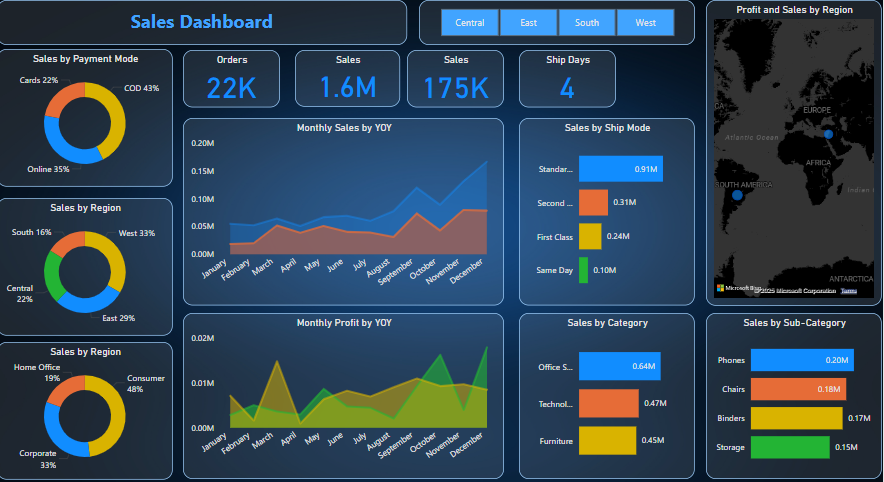

This screenshot's page, from the dashboard's own definition file:
{"tool":"powerbi","page":{"name":"Page 1","canvas":[1280,720],"ordinal":0},"visuals":[{"type":"clusteredBarChart","title":"Sales by Ship Mode","fields":{"Category":["SuperStore_Sales_Dataset.Ship Mode"],"Y":["Sum(SuperStore_Sales_Dataset.Sales)"]},"box":[754.3,181.4,254.3,271.4],"z":0},{"type":"clusteredBarChart","title":"Sales by Category","fields":{"Category":["SuperStore_Sales_Dataset.Category"],"Y":["Sum(SuperStore_Sales_Dataset.Sales)"]},"box":[754.7,462.7,254.5,240],"z":1000},{"type":"clusteredBarChart","title":"Sales by Sub-Category","fields":{"Category":["SuperStore_Sales_Dataset.Sub-Category"],"Y":["Sum(SuperStore_Sales_Dataset.Sales)"]},"box":[1025.1,462.7,254.5,240],"z":2000},{"type":"areaChart","title":"Monthly Sales by YOY","fields":{"Y":["Sum(SuperStore_Sales_Dataset.Sales)"],"Category":["SuperStore_Sales_Dataset.Order Date.Variation.Date Hierarchy.Month"],"Series":["SuperStore_Sales_Dataset.Order Date.Variation.Date Hierarchy.Year"]},"box":[268.6,181.4,464.3,271.4],"z":3000},{"type":"areaChart","title":"Monthly Profit by YOY","fields":{"Y":["Sum(SuperStore_Sales_Dataset.Profit)"],"Series":["SuperStore_Sales_Dataset.Order Date.Variation.Date Hierarchy.Year"],"Category":["SuperStore_Sales_Dataset.Order Date.Variation.Date Hierarchy.Month"]},"box":[268.9,462.7,464.1,240],"z":4000},{"type":"map","title":"Profit and Sales by Region","fields":{"Category":["SuperStore_Sales_Dataset.Region"],"Size":["Sum(SuperStore_Sales_Dataset.Sales)"]},"box":[1025.1,10.1,254.5,442.4],"z":5000},{"type":"donutChart","title":"Sales by Payment Mode","fields":{"Category":["SuperStore_Sales_Dataset.Payment Mode"],"Y":["Sum(SuperStore_Sales_Dataset.Sales)"]},"box":[0,81.4,254.3,198.6],"z":6000},{"type":"donutChart","title":"Sales by Region","fields":{"Category":["SuperStore_Sales_Dataset.Region"],"Y":["Sum(SuperStore_Sales_Dataset.Sales)"]},"box":[0,295.7,254.3,198.6],"z":7000},{"type":"donutChart","title":"Sales by Region","fields":{"Category":["SuperStore_Sales_Dataset.Segment"],"Y":["Sum(SuperStore_Sales_Dataset.Sales)"]},"box":[0,504.3,254.3,198.6],"z":8000},{"type":"card","title":"Orders","fields":{"Values":["Sum(SuperStore_Sales_Dataset.Quantity)"]},"box":[268.6,82.9,140,82.9],"z":9000},{"type":"card","title":"Sales","fields":{"Values":["Sum(SuperStore_Sales_Dataset.Sales)"]},"box":[430.8,82.4,151.8,82.4],"z":10000},{"type":"card","title":"Sales","fields":{"Values":["Sum(SuperStore_Sales_Dataset.Profit)"]},"box":[592.9,82.9,140,82.9],"z":11000},{"type":"card","title":"Ship Days","fields":{"Values":["Avg(SuperStore_Sales_Dataset.AvgDelivery)"]},"box":[754.3,82.9,140,82.9],"z":12000},{"type":"slicer","fields":{"Values":["SuperStore_Sales_Dataset.Region"]},"box":[610.1,10.1,399,65.1],"z":13000},{"type":"textbox","box":[0,10.1,592.8,65.1],"z":13001}]}

Visuals, with their boxes in screenshot pixels (x1, y1, x2, y2):
"Sales by Ship Mode" clusteredBarChart: x1=518 y1=117 x2=691 y2=302
"Sales by Category" clusteredBarChart: x1=518 y1=309 x2=692 y2=473
"Sales by Sub-Category" clusteredBarChart: x1=703 y1=309 x2=877 y2=473
"Monthly Sales by YOY" areaChart: x1=186 y1=117 x2=503 y2=302
"Monthly Profit by YOY" areaChart: x1=186 y1=309 x2=503 y2=473
"Profit and Sales by Region" map: x1=703 y1=0 x2=877 y2=302
"Sales by Payment Mode" donutChart: x1=2 y1=49 x2=176 y2=184
"Sales by Region" donutChart: x1=2 y1=195 x2=176 y2=331
"Sales by Region" donutChart: x1=2 y1=338 x2=176 y2=473
"Orders" card: x1=186 y1=50 x2=281 y2=106
"Sales" card: x1=297 y1=49 x2=400 y2=106
"Sales" card: x1=407 y1=50 x2=503 y2=106
"Ship Days" card: x1=518 y1=50 x2=613 y2=106
slicer - SuperStore_Sales_Dataset.Region: x1=419 y1=0 x2=692 y2=44
textbox: x1=2 y1=0 x2=407 y2=44
